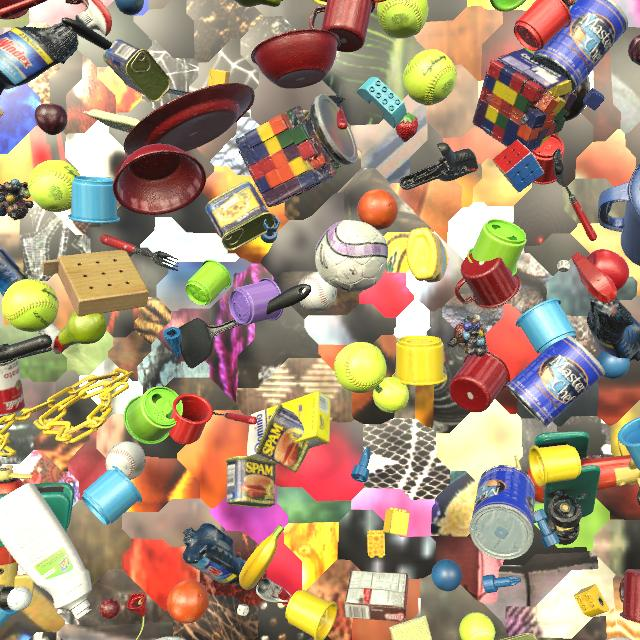ycb_002_master_chef_can: (506, 334, 605, 427), (530, 0, 628, 93), (470, 465, 535, 560), (606, 637, 631, 640)
ycb_004_sugar_box: (247, 391, 331, 460)
ycb_005_tomato_soup_can: (0, 358, 25, 416)
ycb_006_mustard_bottle: (406, 227, 448, 283)
ycb_008_pudding_box: (344, 570, 409, 622)
ycb_010_potted_meat_can: (205, 181, 276, 251), (103, 39, 171, 102), (256, 404, 309, 472), (225, 456, 277, 508), (500, 633, 538, 640)
ycb_011_banana: (239, 525, 284, 590)
ycb_012_strawberry: (395, 113, 418, 142)
ycb_013_apple: (580, 249, 629, 290)
ycb_016_pear: (58, 311, 107, 346), (235, 0, 283, 7)
ycb_017_orange: (167, 579, 209, 624), (357, 189, 398, 230)
ycb_018_plum: (35, 103, 68, 135), (628, 35, 640, 66)
